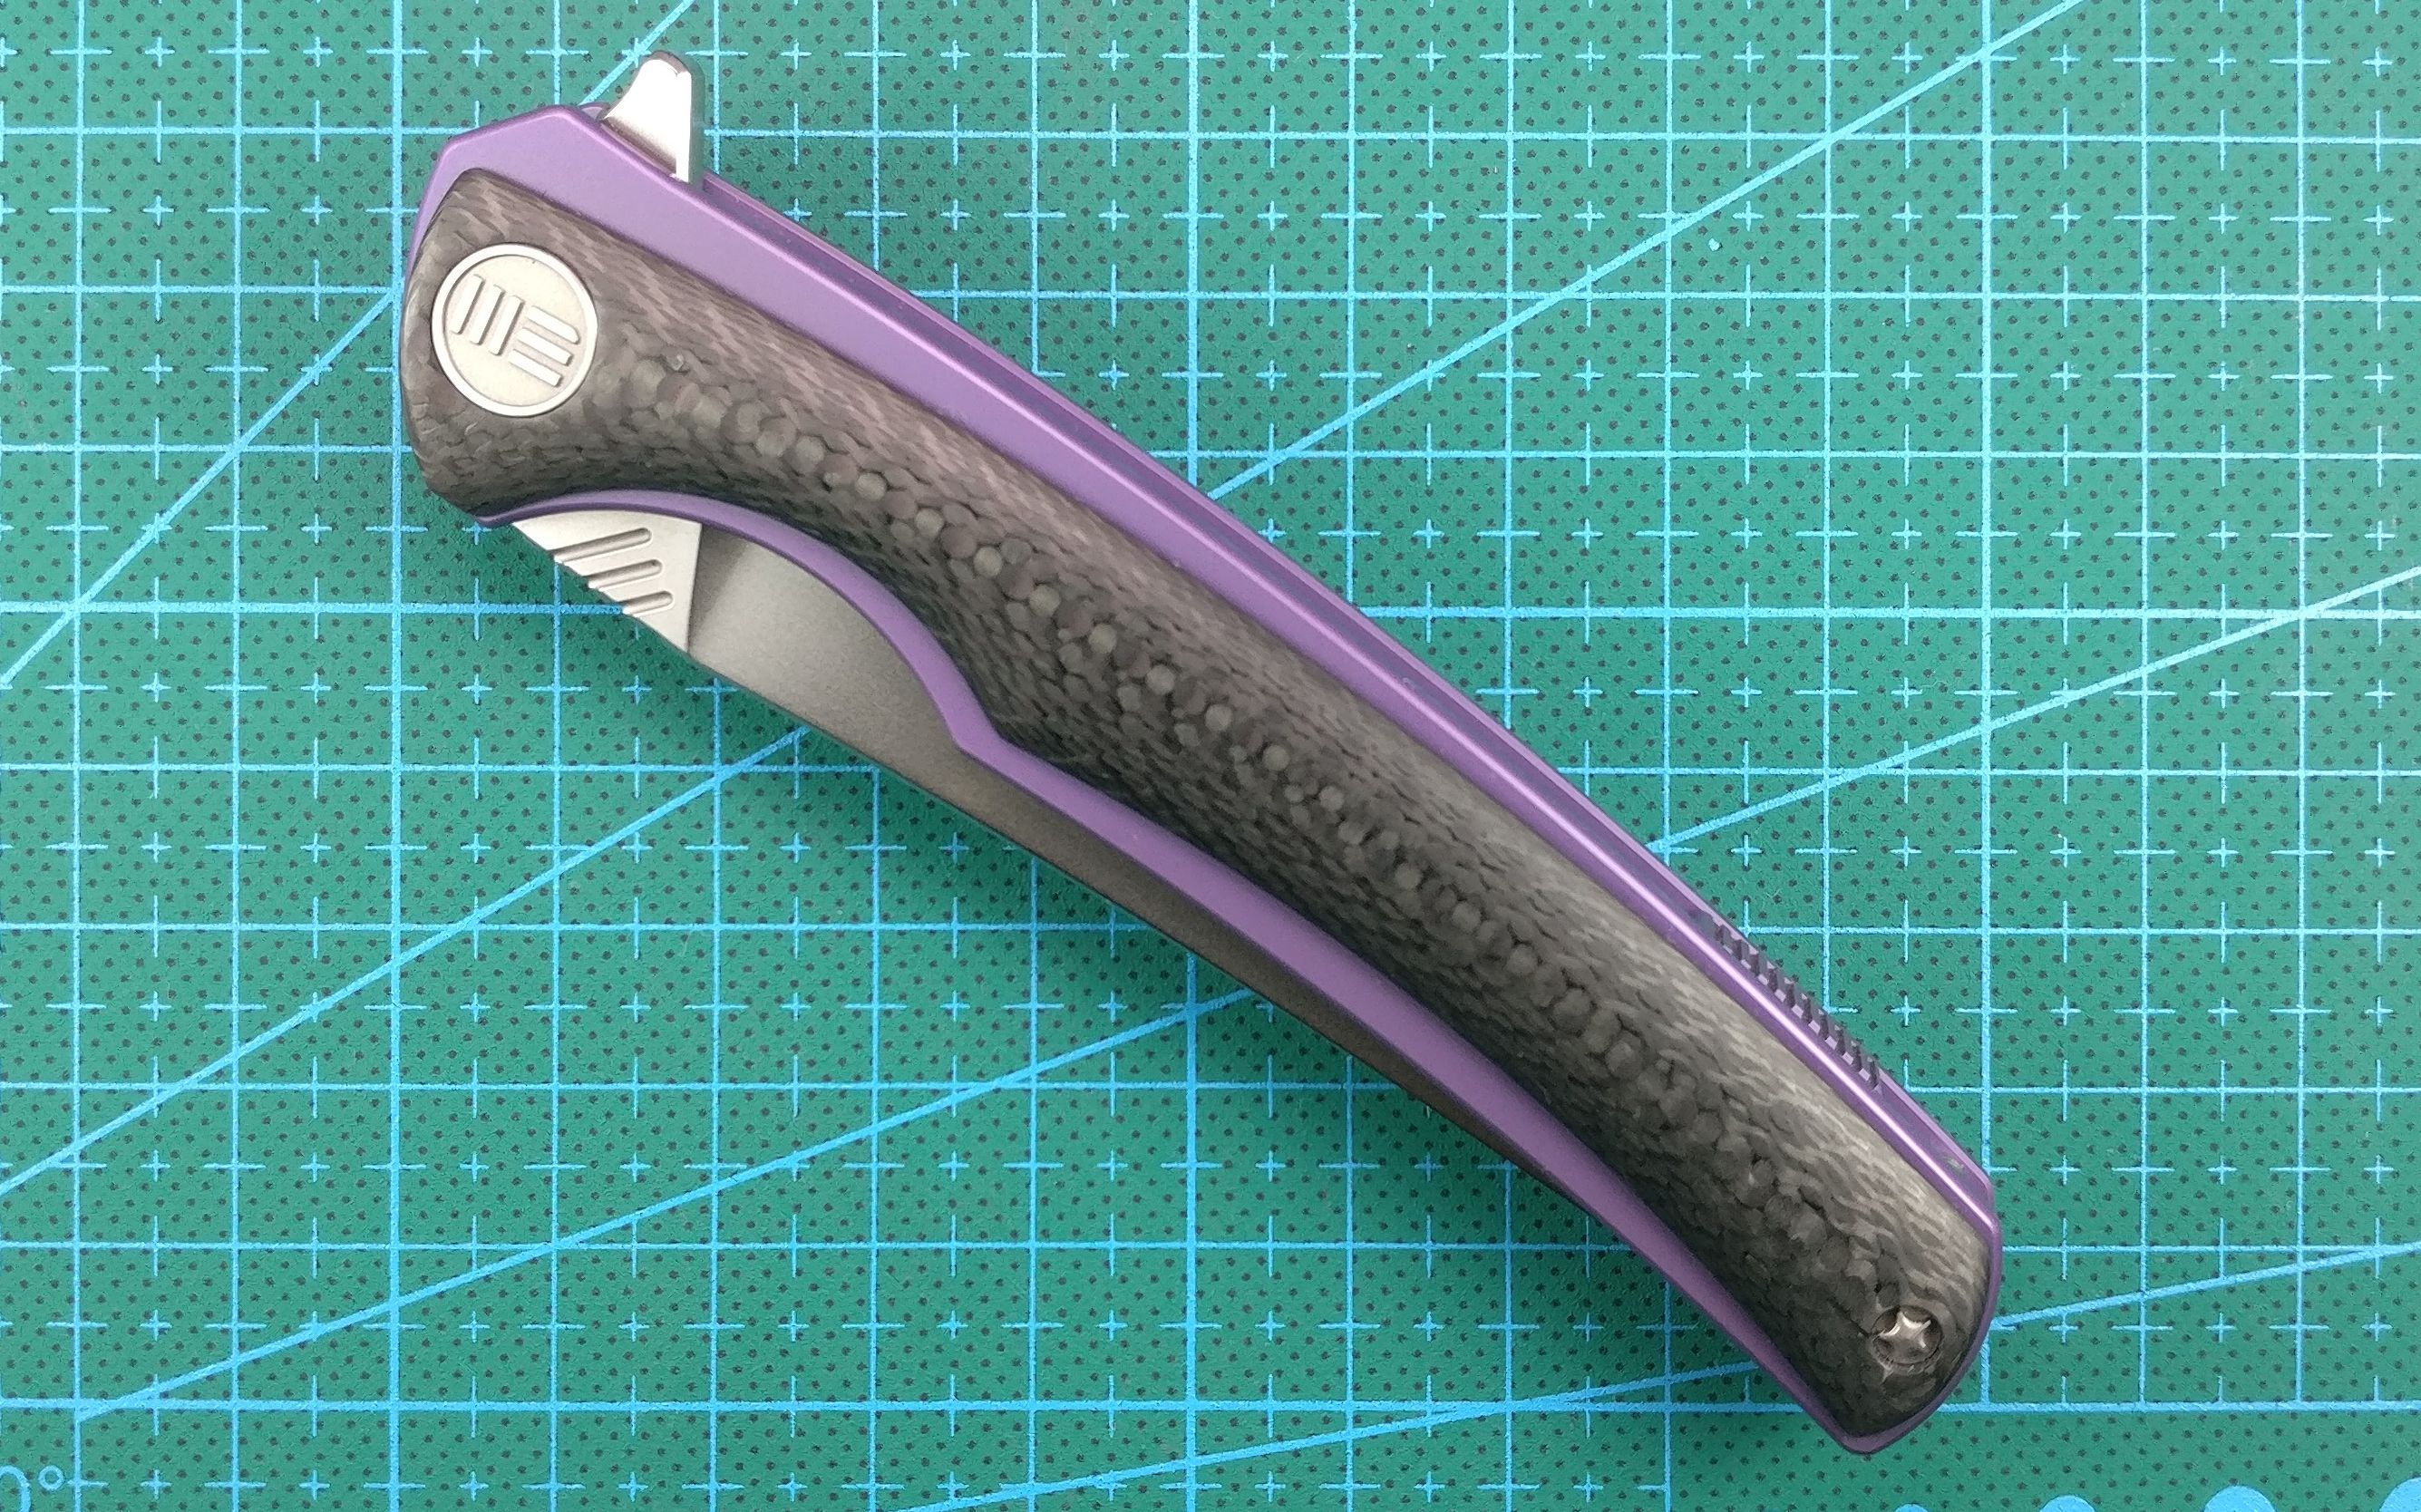knief: (359, 80, 2005, 1446)
